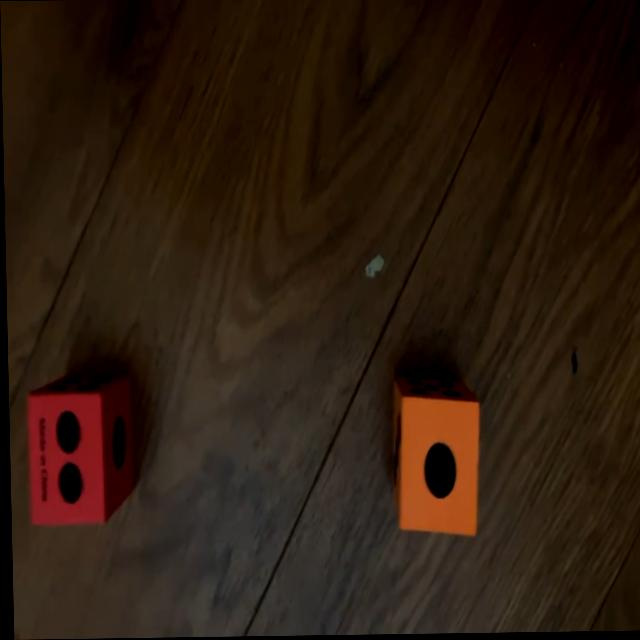cube: (24, 375, 133, 526)
